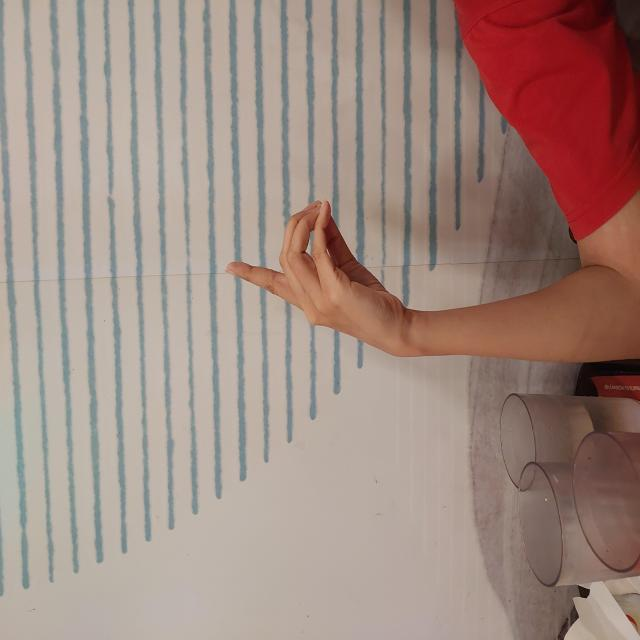D: (293, 222, 443, 407)
